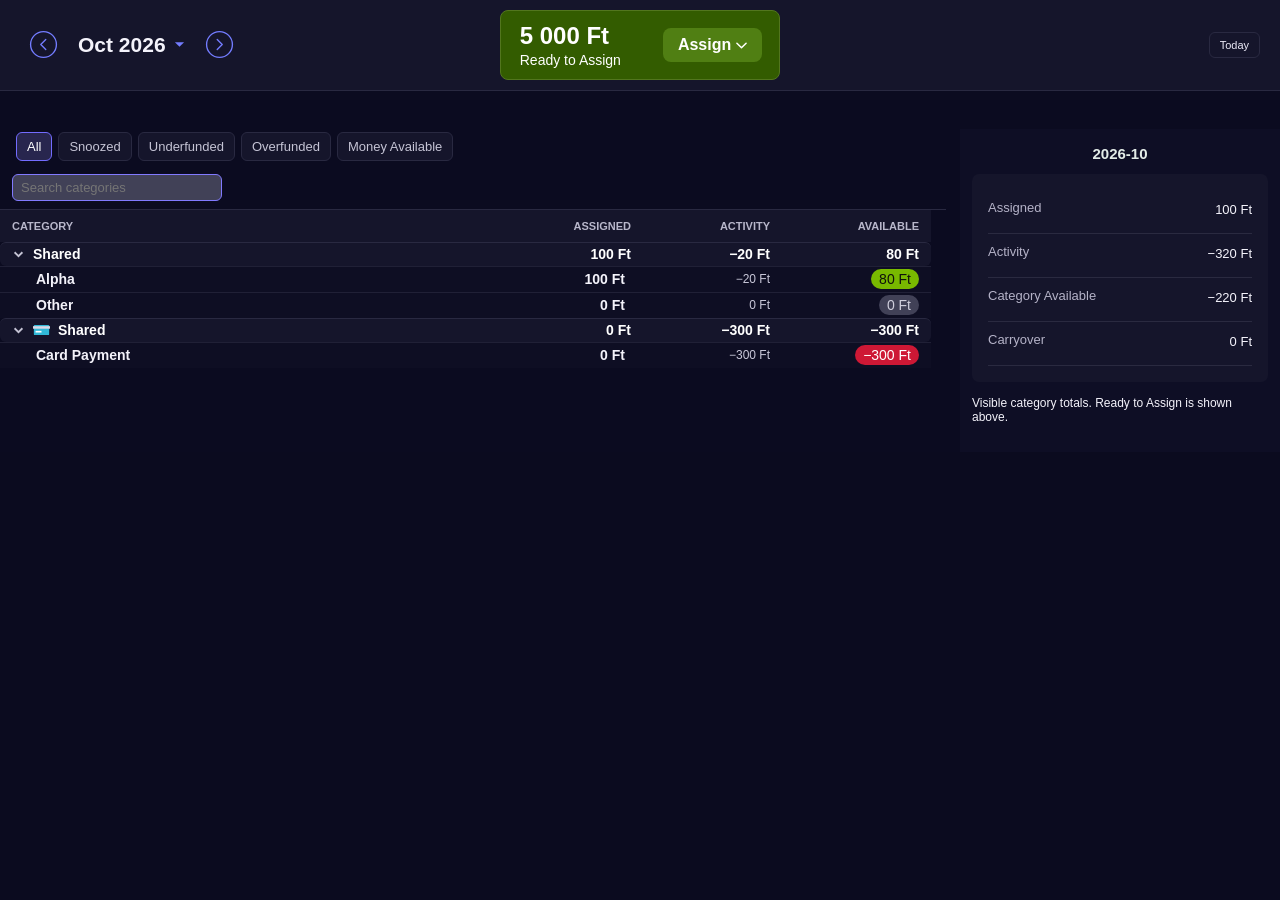
Test: requires a destination before deleting and retains the chooser when deletion fails
Click the button "Alpha". click: (55, 279)
box: 36,271 -> 75,287
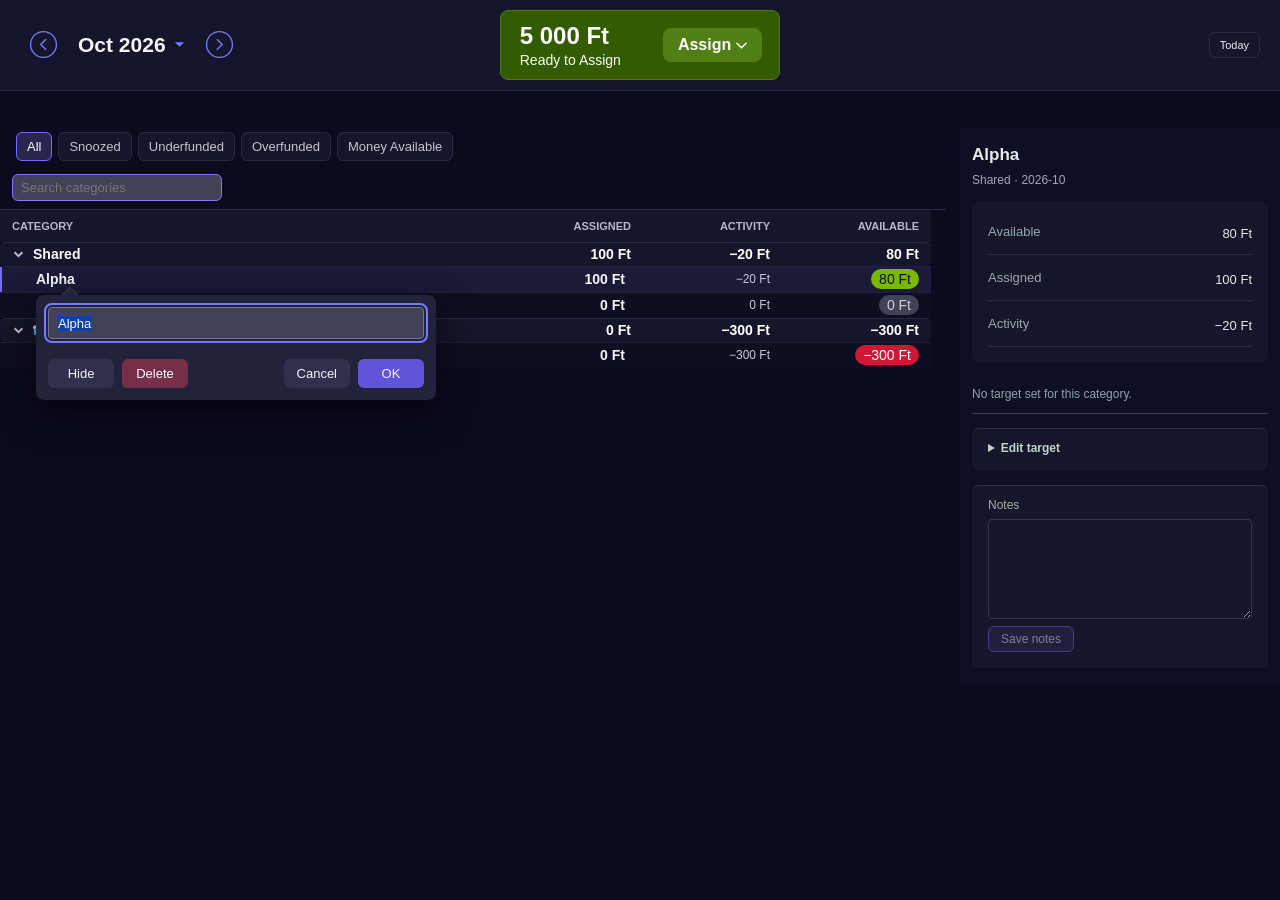
Click the button with class "danger". click: (155, 374)
box: 122,359 -> 188,388
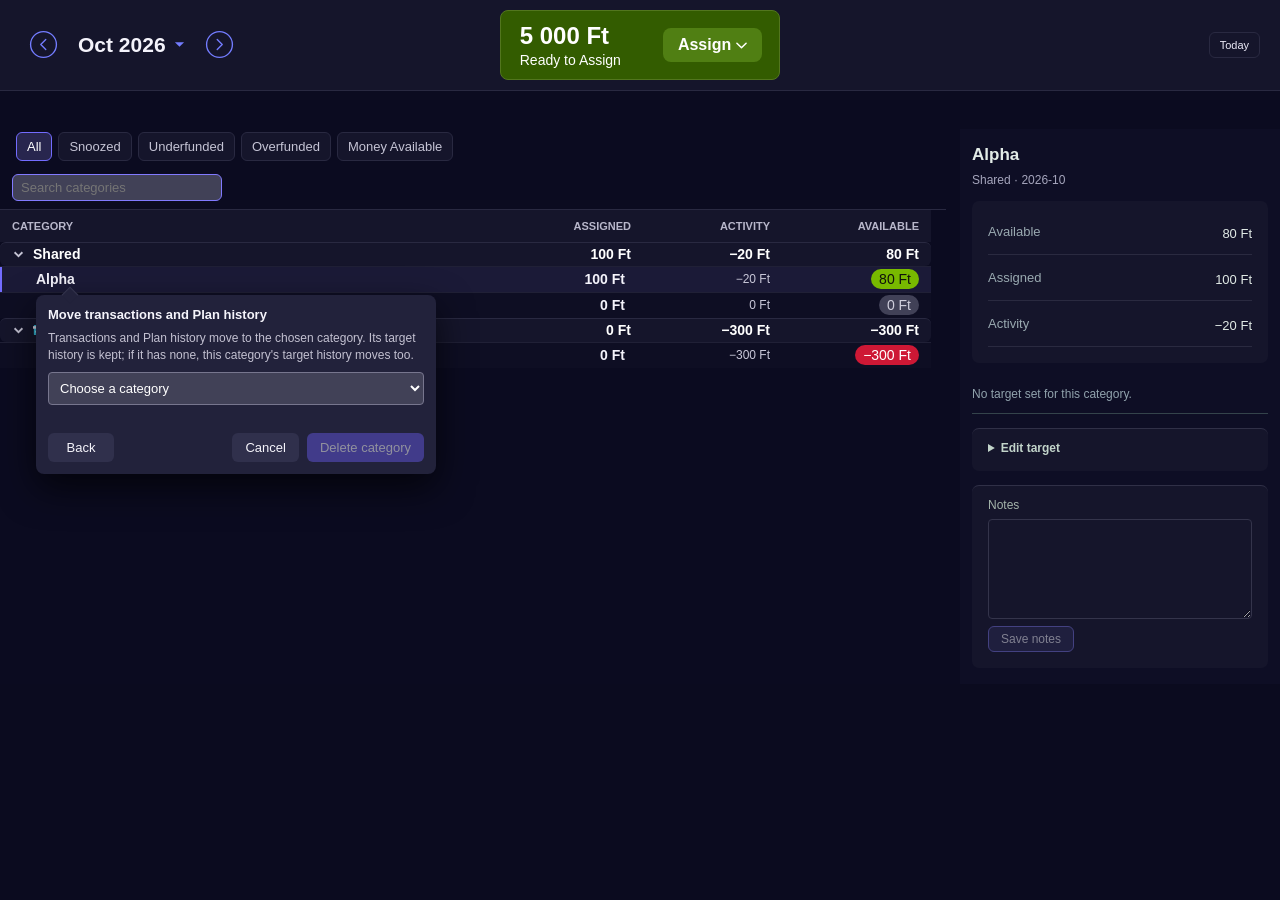
Select "Shared - Other" in the dropdown with id "category-delete-destination". click: (236, 388)
box: 48,372 -> 424,405
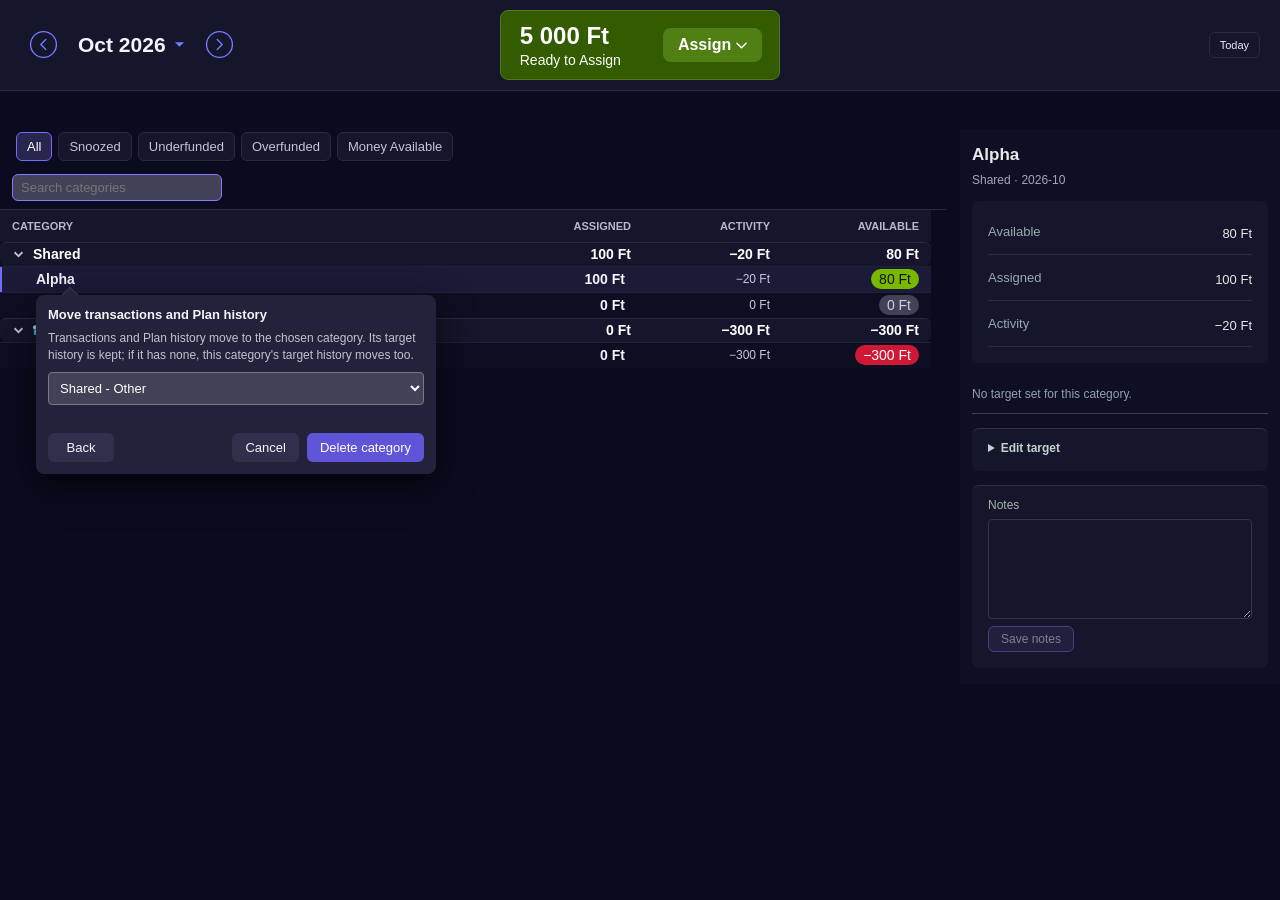
Click the button with class "danger". click: (365, 447)
box: 307,433 -> 424,462
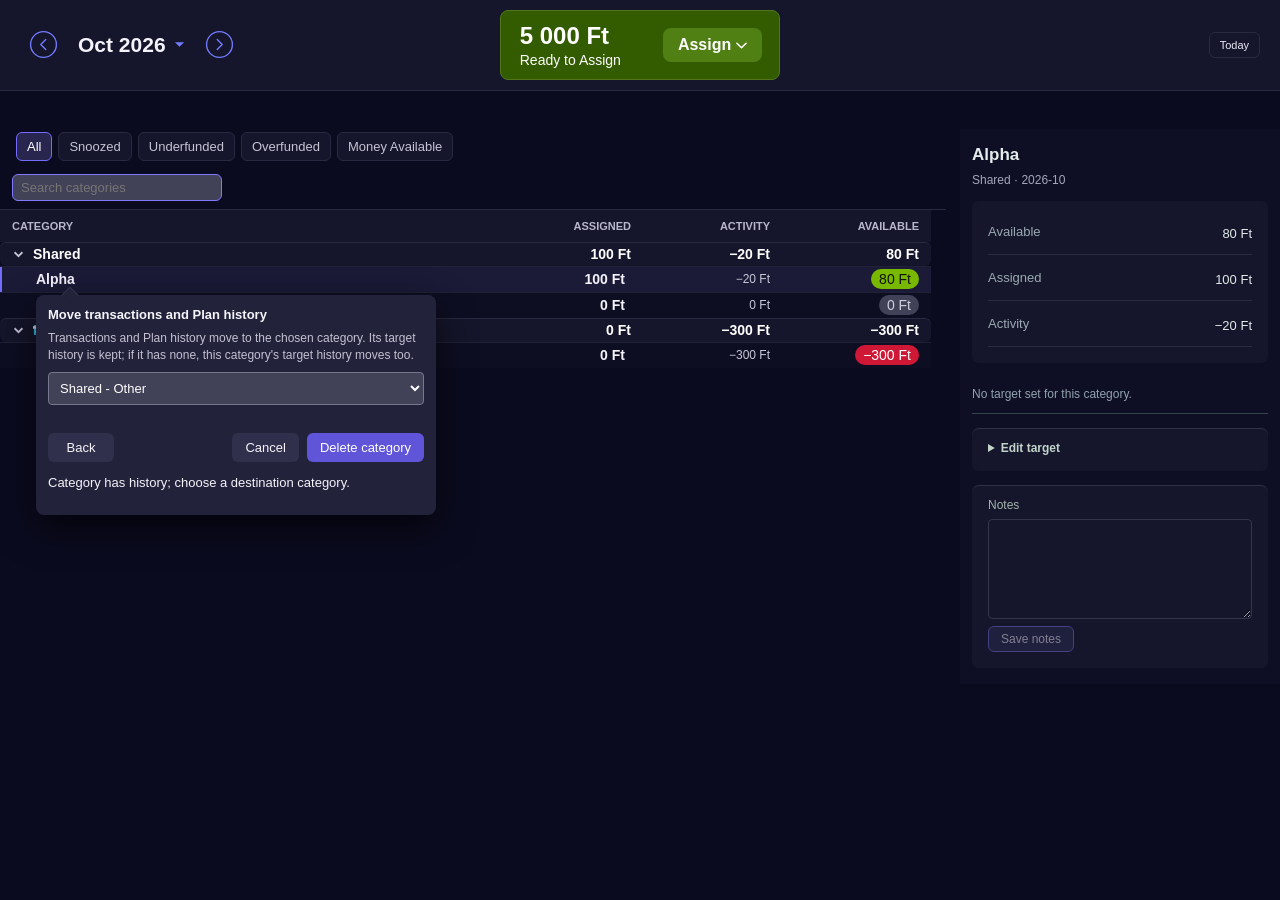
Now the message "Category has history; choose a destination category." is shown, box 48,475 -> 350,490
